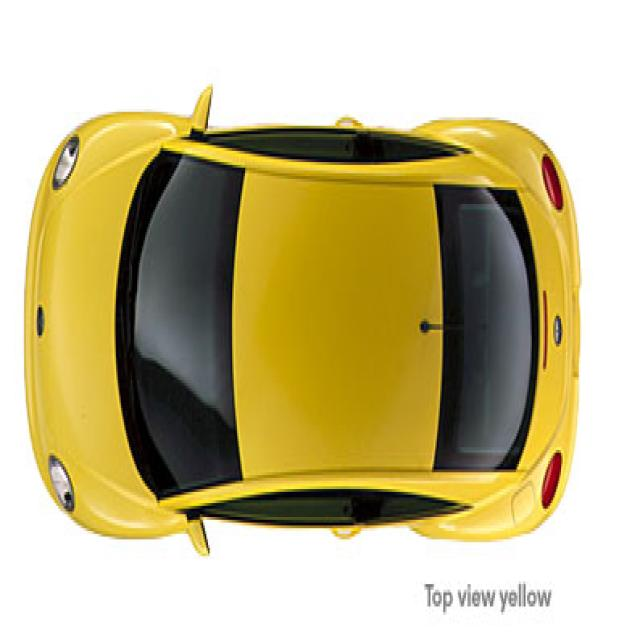Car: (22, 81, 580, 553)
